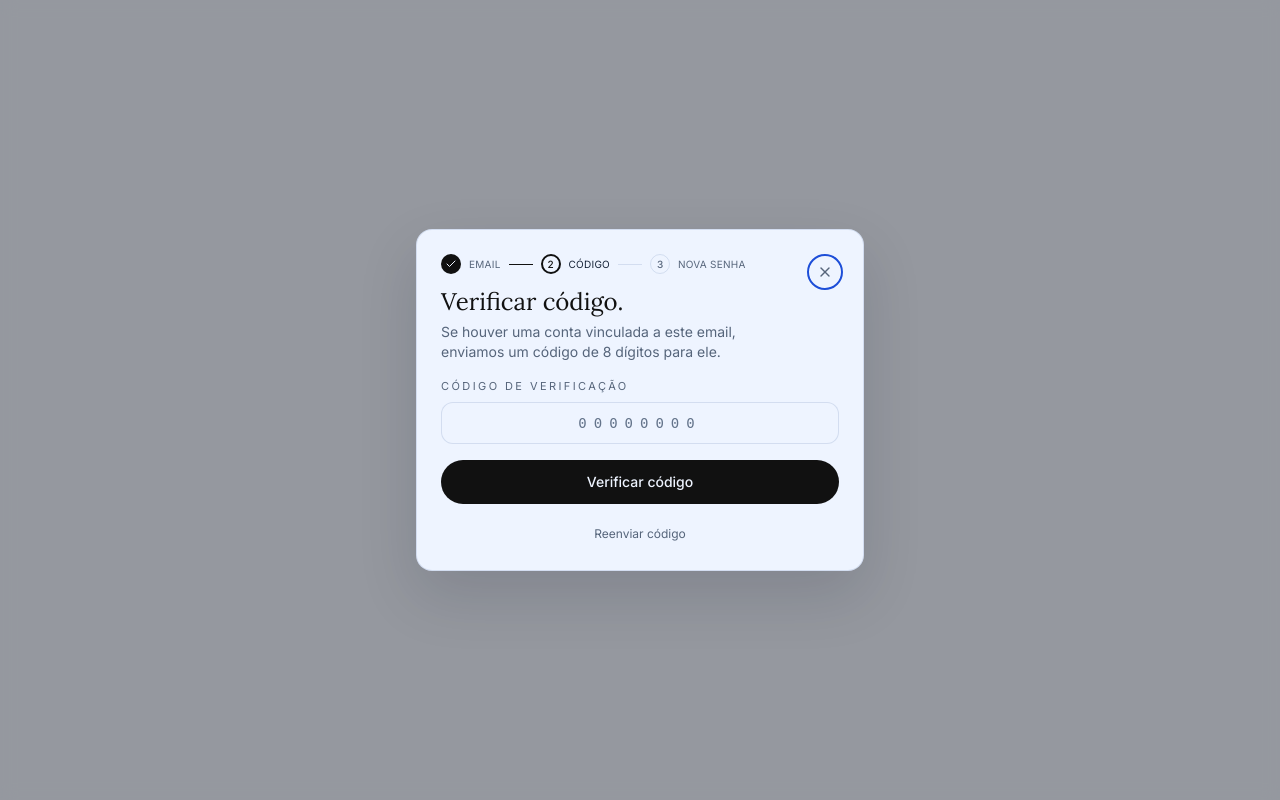
Test case: ForgotPasswordModal › mantém o foco no campo de código enquanto o usuário digita
The image size is (1280, 800).
Click the field with placeholder "00000000": (640, 423) top-left (441, 402), bottom-right (839, 444)
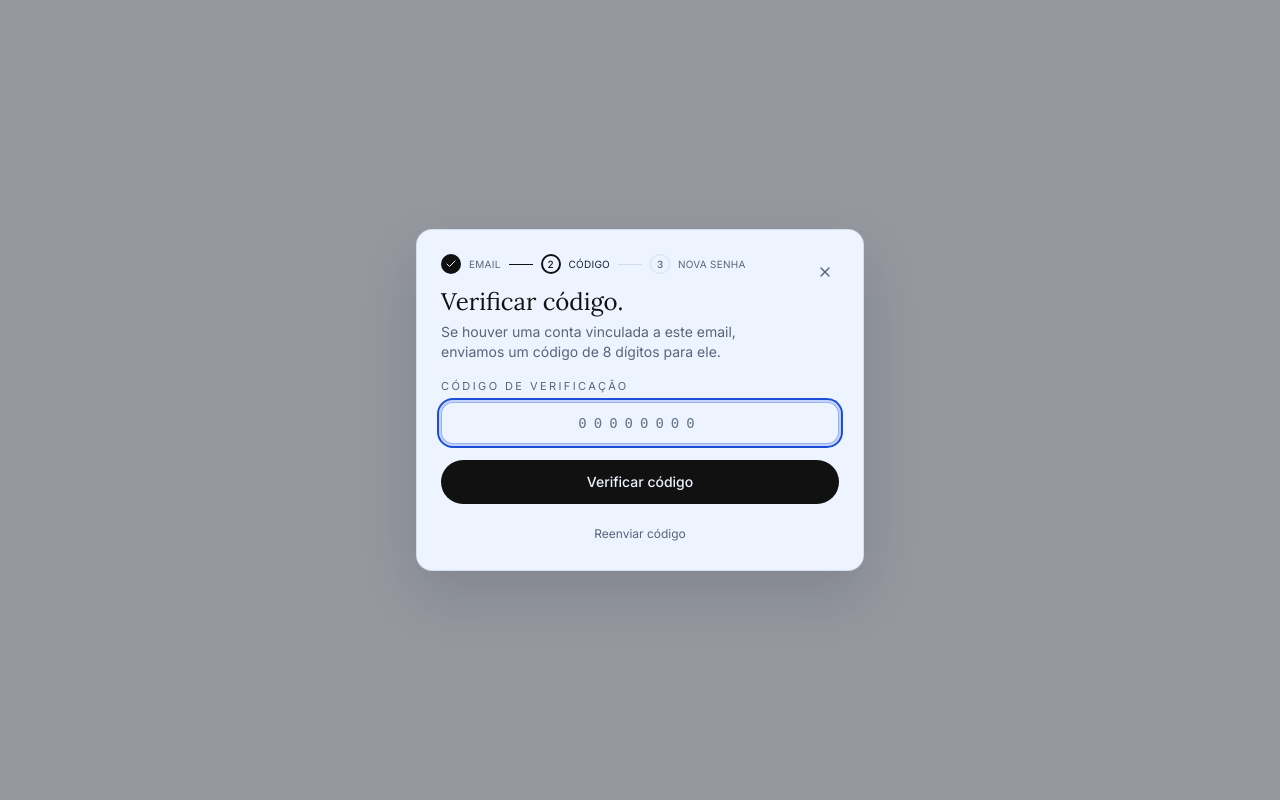
Type keys "12345678"
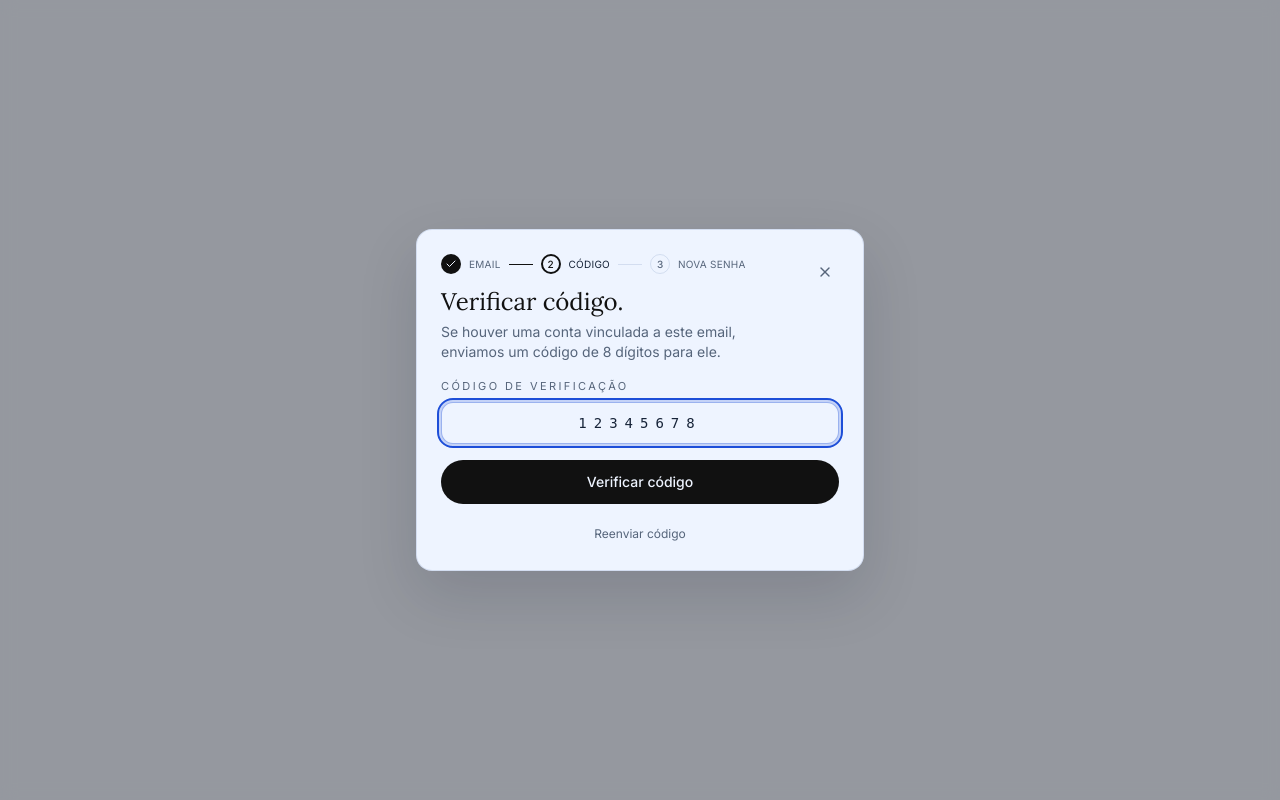
Result: the field with placeholder "00000000" holds "12345678" at top-left (441, 402), bottom-right (839, 444)
